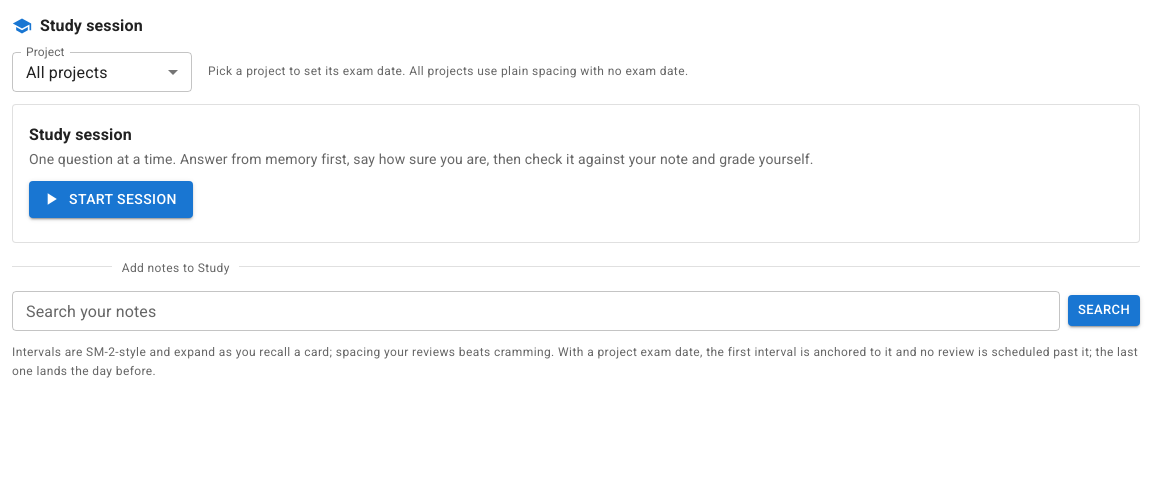
Test case: ReviewView › says "Already in Study" for a note that already has cards (#263)
In the field labelled "Search your notes": (536, 310) [12, 290, 1060, 330], type "cell"
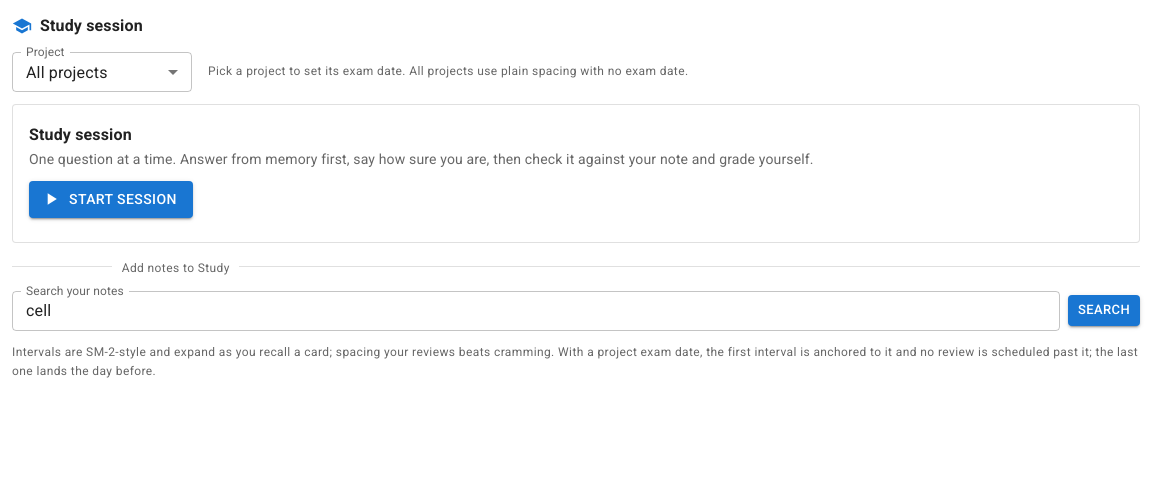
Click the button "Search": (1104, 310) [1068, 295, 1140, 326]
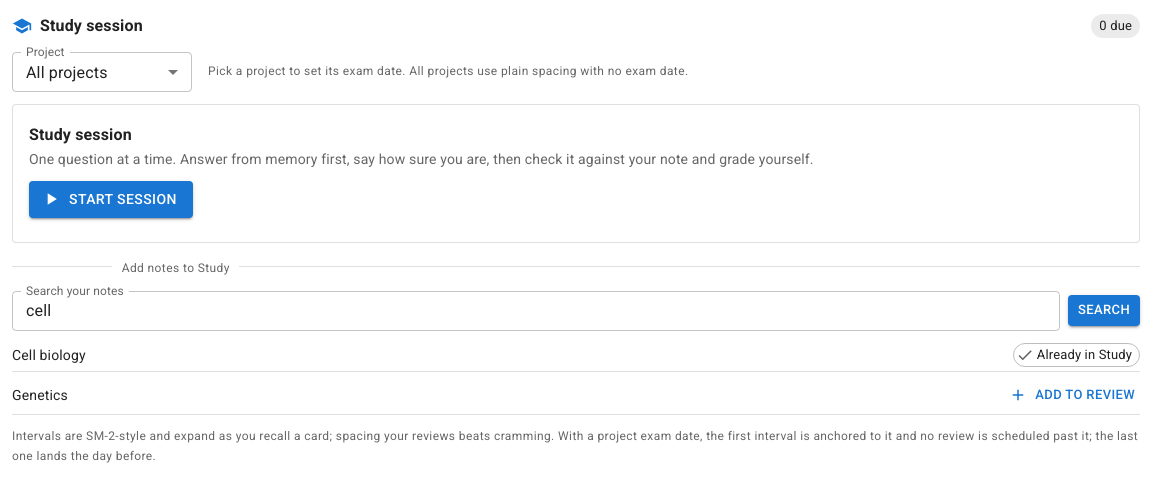
Now the text "Already in Study" is shown, box [1030, 345, 1139, 364]
Now the number of buttons "Add to review" is 1, box [1006, 380, 1140, 410]
